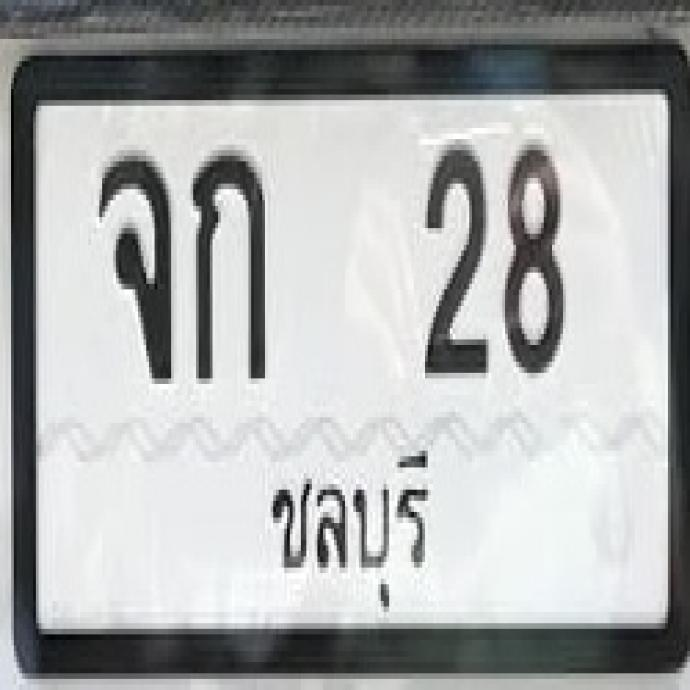2: (423, 140, 486, 375)
8: (502, 138, 562, 372)
A01: (190, 144, 264, 379)
A08: (97, 148, 170, 377)
CBI: (258, 428, 438, 619)
